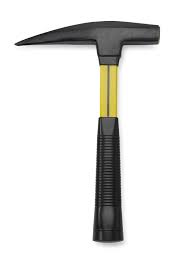hammer: (13, 19, 161, 244)
